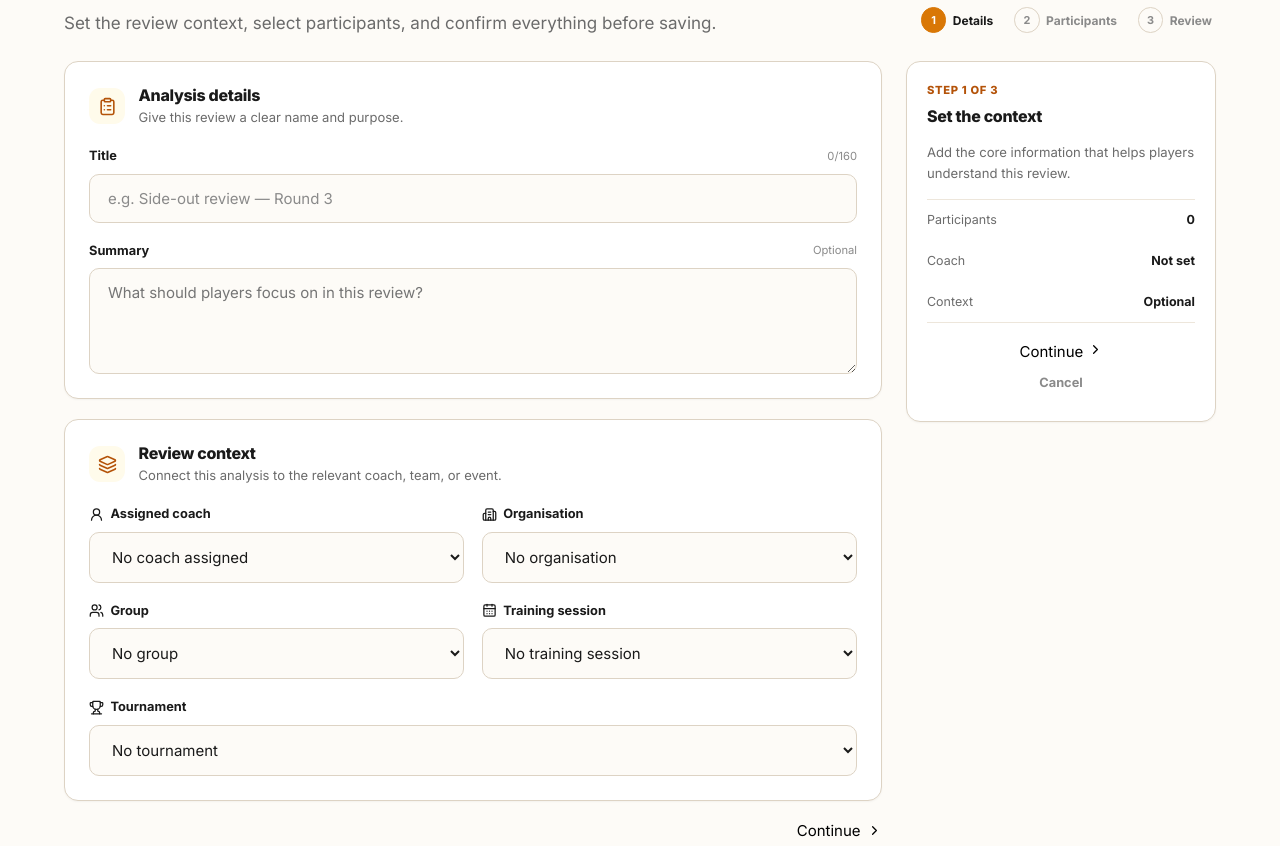
Test: AnalysisFormPage steps › shows one phase at a time and validates Details before continuing
This screenshot has width=1280, height=846.
(page scrolled)
Expected: the heading "Analysis details" is shown, [139,85,260,105]
Click the button "Continue" below "Training session" at (839, 830), box [797,821,882,840]
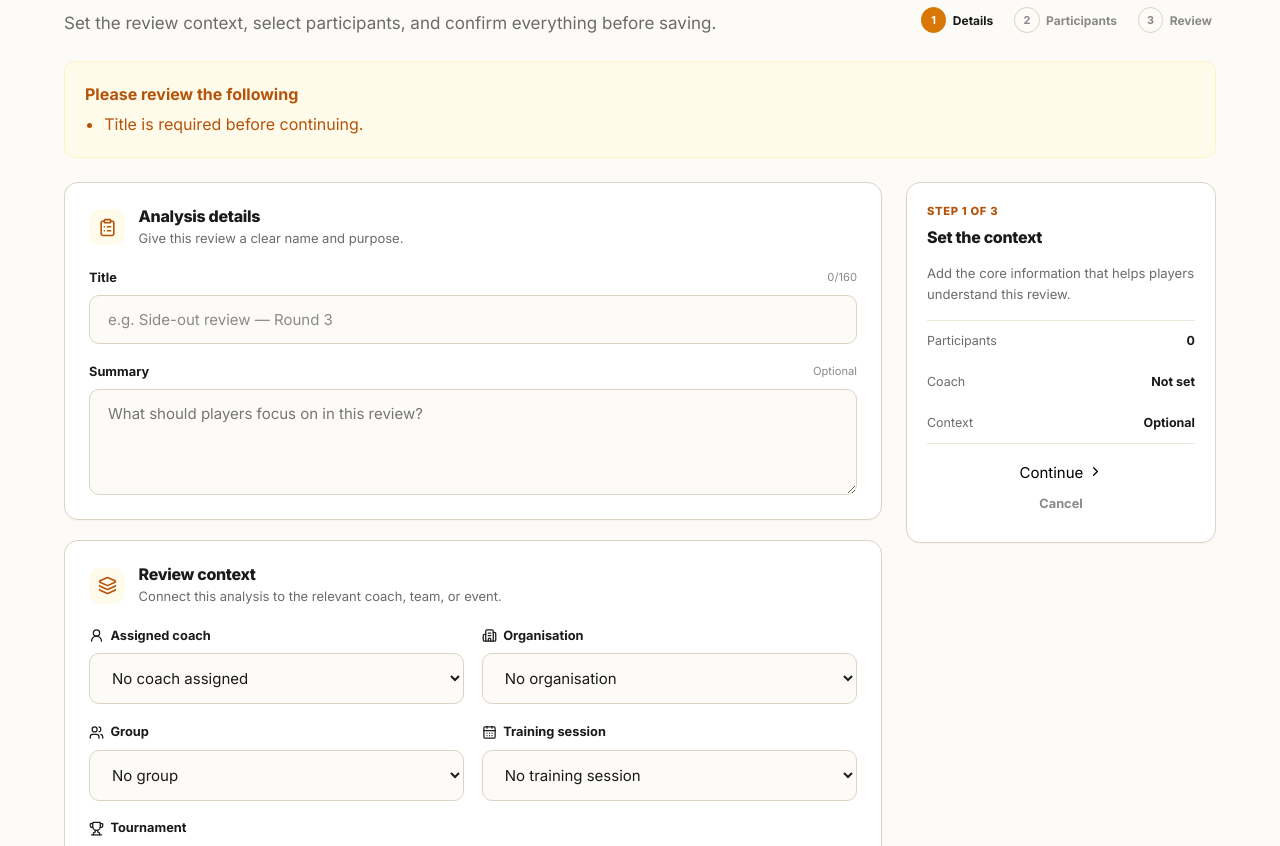
Expected: the heading "Analysis details" is shown, [139,206,260,226]
Now the message shows "Title is required before continuing.", box [104,114,364,134]
